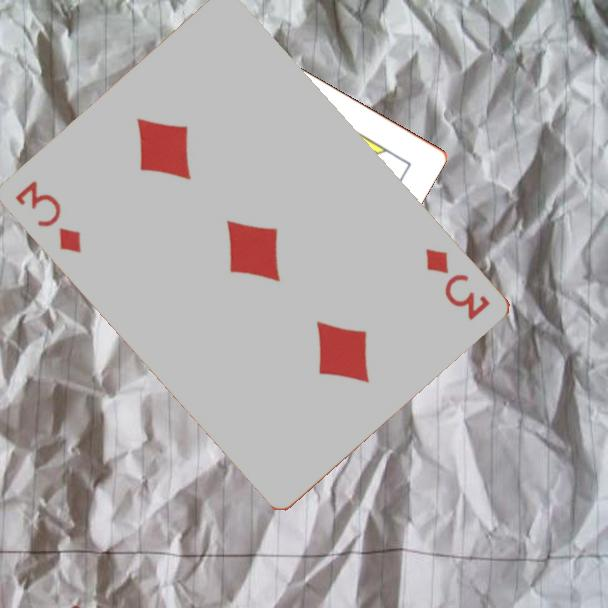d03: (12, 177, 86, 256), (422, 244, 494, 324)
